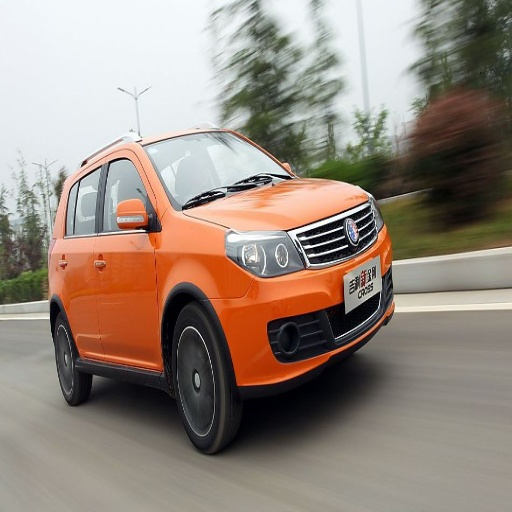front_bumper: (214, 211, 390, 395)
front_right_door: (97, 147, 156, 366)
front_right_light: (226, 231, 305, 277)
